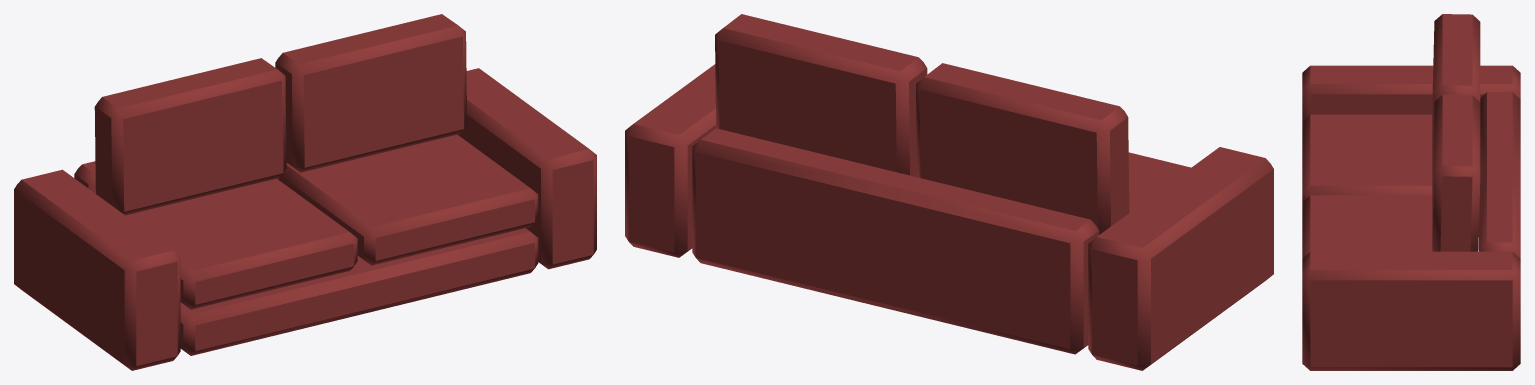
The model's file is Sofa.glb.
3 renders of one model, left to right at view 1: azimuth 30°, elevation 25°; view 2: azimuth 150°, elevation 25°; view 3: azimuth 270°, elevation 25°, orthographic. The views are drawn at different scales.
Parts seen in each view (by area): view 1: Sofa; view 2: Sofa; view 3: Sofa.
Part boxes in pixels (x1=…): Sofa: x1=14, y1=14, x2=596, y2=370; Sofa: x1=625, y1=14, x2=1273, y2=370; Sofa: x1=1302, y1=14, x2=1520, y2=370.
Bounding box in the file's own units: 3.35 × 1.32 × 1.46.
